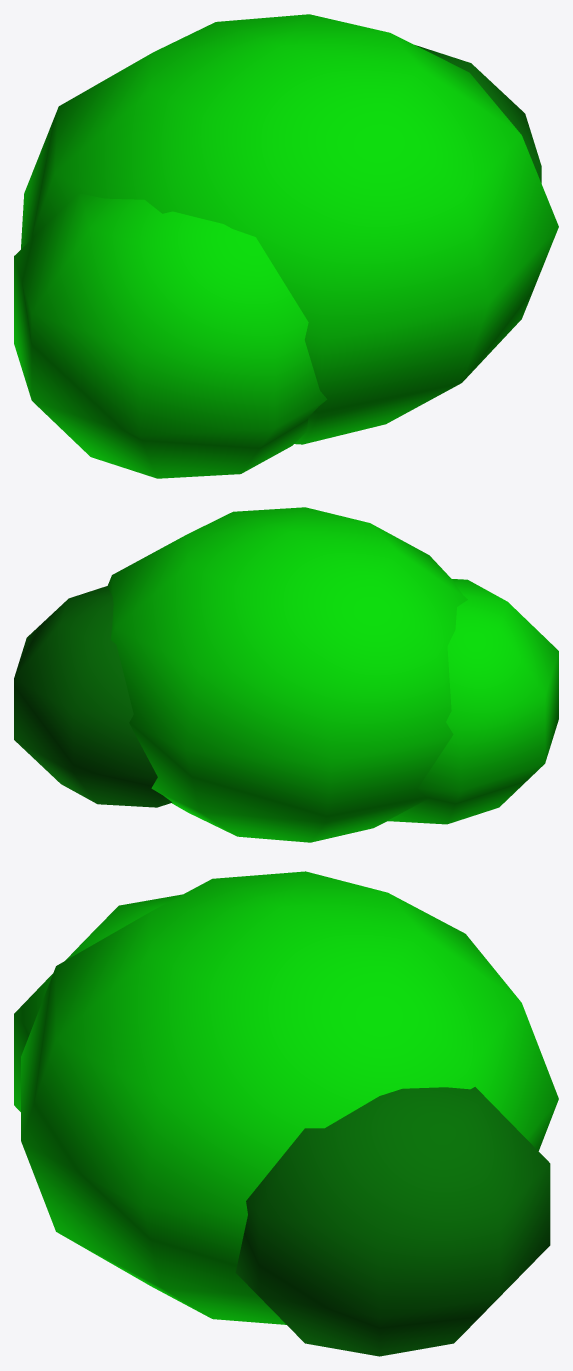
File: Bush.fbx
3 renders of one model, top to bottom at view 1: azimuth 30°, elevation 25°; view 2: azimuth 150°, elevation 25°; view 3: azimuth 270°, elevation 25°, orthographic. The views are drawn at different scales.
Visible parts, largest first — view 1: Bush; view 2: Bush; view 3: Bush.
Part boxes in pixels (bbox=[...]): Bush: bbox=[14, 14, 558, 478]; Bush: bbox=[14, 507, 558, 842]; Bush: bbox=[14, 871, 558, 1356].
Bounding box in the file's own units: 2.14 × 1.3 × 1.67.
